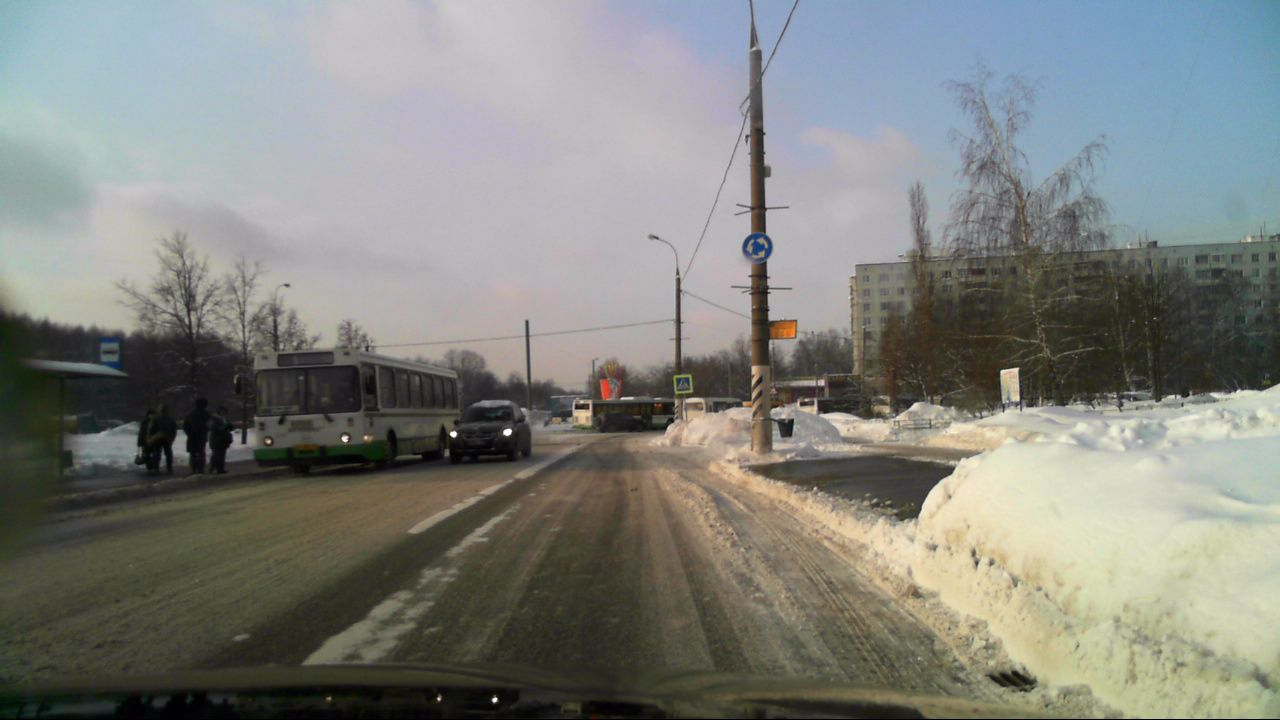Round-About: (742, 233, 774, 263)
